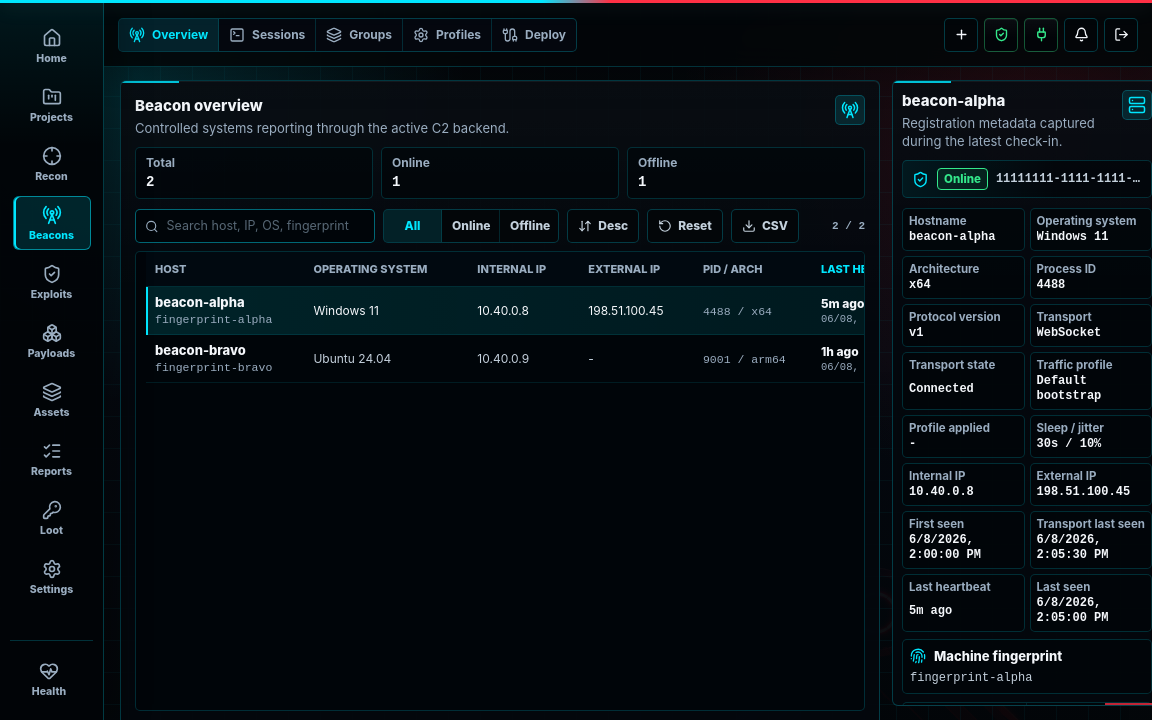
Scenario: BeaconsPage › shows registry unavailable for non-Windows beacons
The width and height of the screenshot is (1152, 720).
Double-click the row named "Host beacon-bravo" at (649, 358), box [146,334,1151,382]
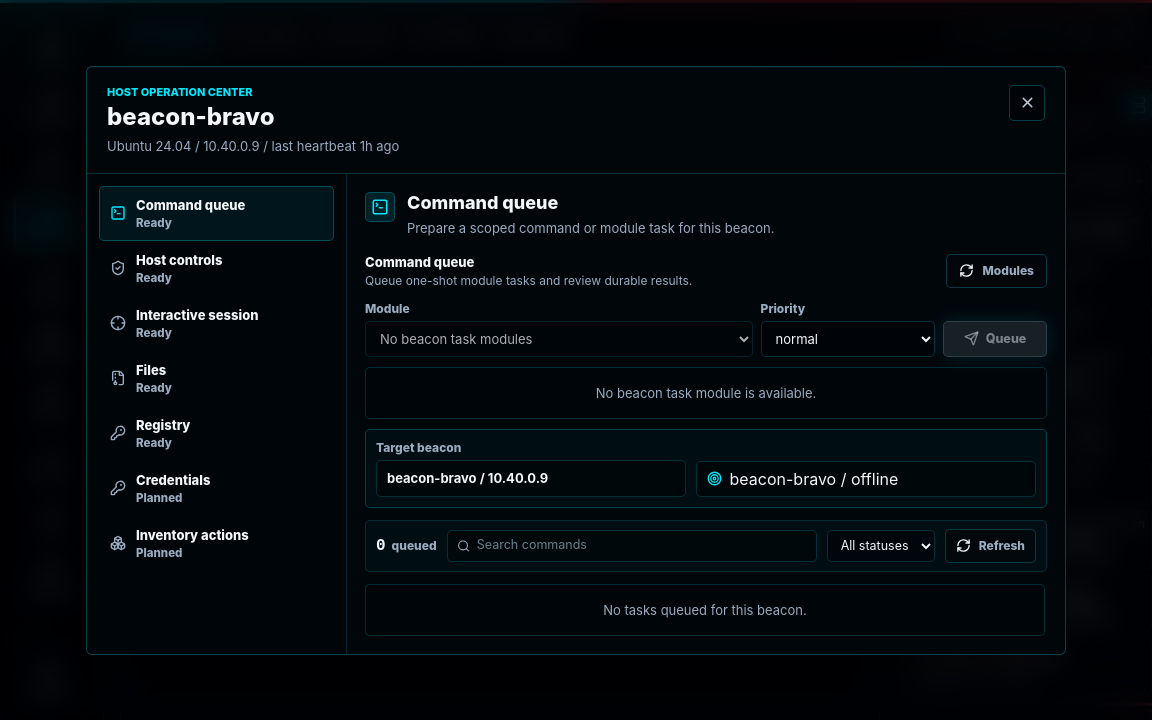
Click the button "Registry Ready" at (216, 433), box [99,406,334,460]
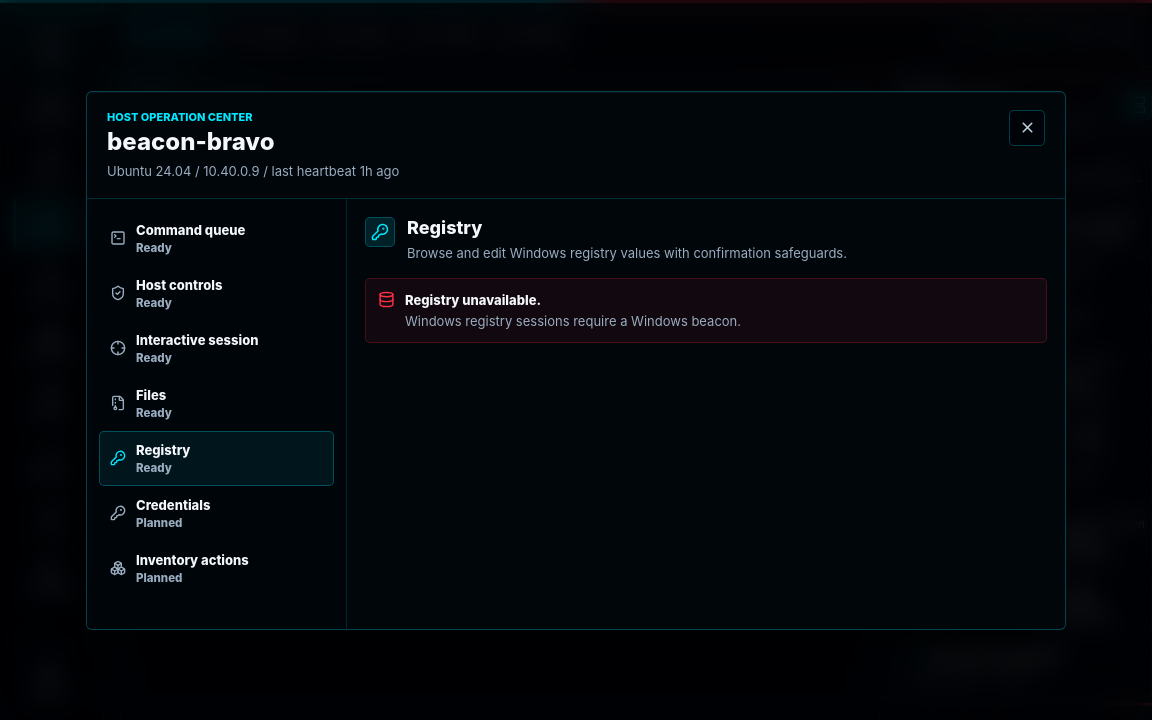
Expected: the text "Registry unavailable." is shown, [405,292,541,308]
Expected: the text "Windows registry sessions require a Windows beacon." is shown, [405,312,741,330]
